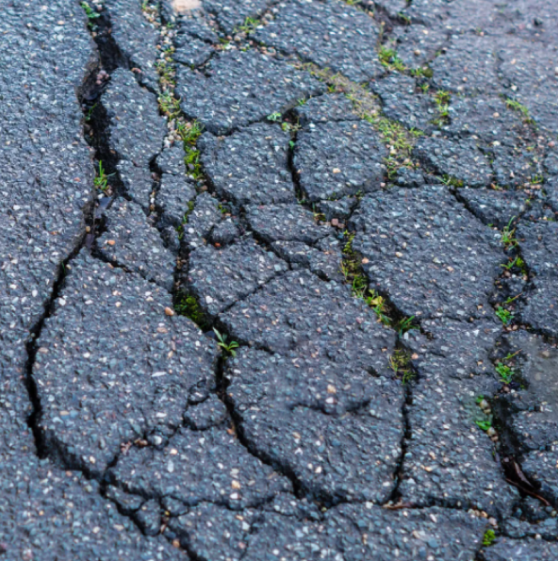Retak Buaya: (40, 2, 558, 561), (21, 298, 77, 476)
